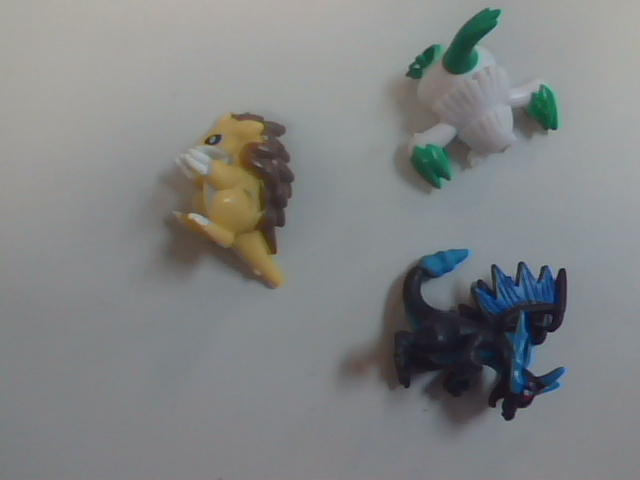abomasnow: (378, 11, 590, 210)
charizard: (368, 239, 588, 448)
sandslash: (157, 99, 314, 300)
